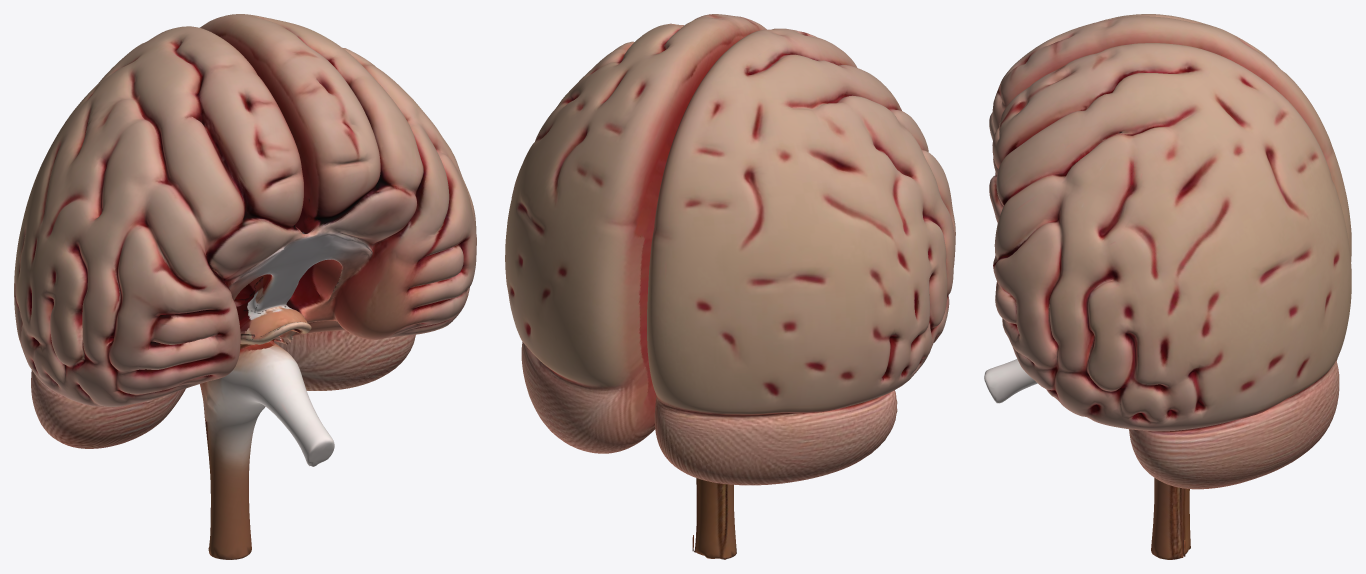
File: vet_v2_organ_horse_brain.glb
The picture shows the model from 3 angles, left to right: view 1: azimuth 30°, elevation 25°; view 2: azimuth 150°, elevation 25°; view 3: azimuth 270°, elevation 25°; orthographic projection. The views are drawn at different scales.
Visible parts, largest first — view 1: model; view 2: model; view 3: model.
Part boxes in pixels (box(x1,y1,x2,y2)): model: box(14, 14, 476, 559); model: box(505, 14, 955, 559); model: box(984, 14, 1351, 559).
Size of the model in its own units: 1.56 by 1.9 by 1.22.
1 material, 1 textured.
